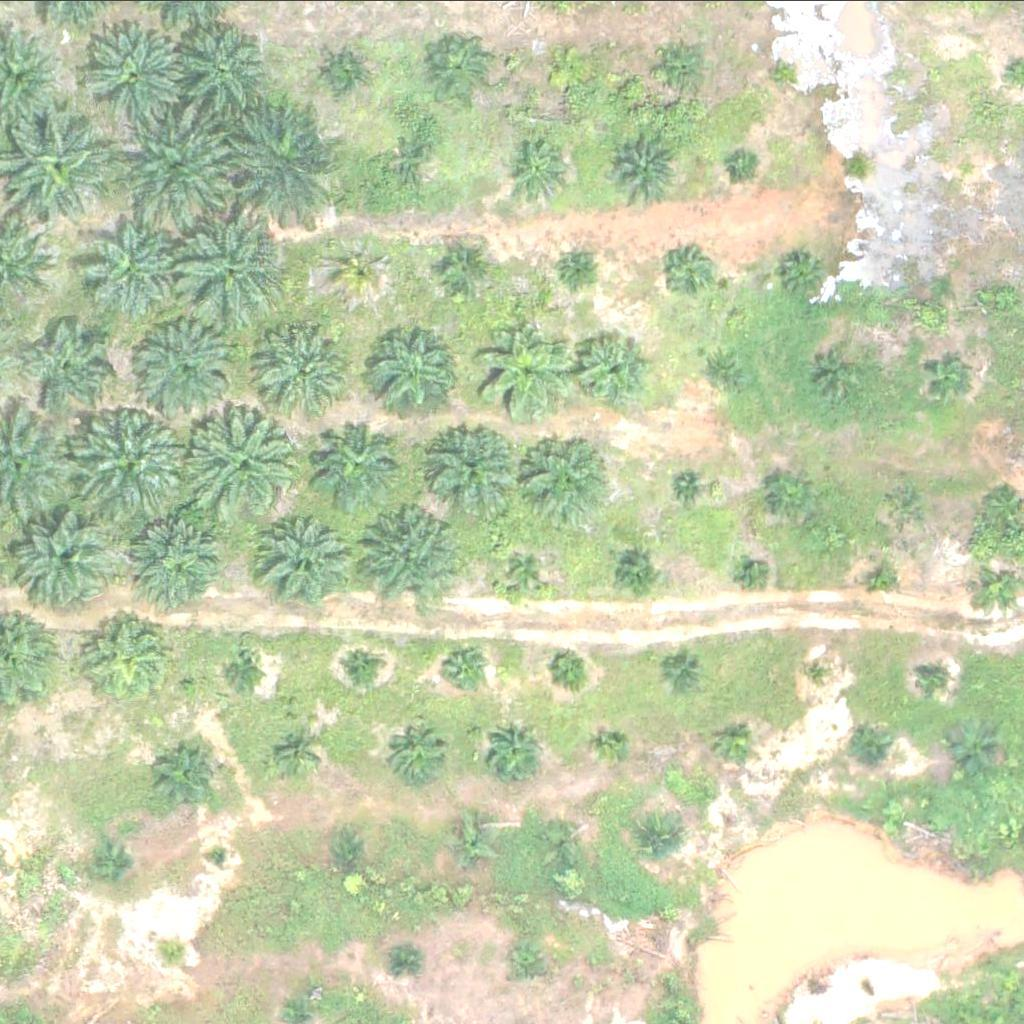Kelapa_Sawit: (110, 104, 236, 229), (221, 96, 347, 221), (68, 403, 193, 528), (187, 403, 312, 528), (179, 208, 292, 321), (71, 17, 185, 129), (80, 217, 181, 317), (26, 313, 127, 413), (135, 318, 236, 418), (13, 504, 114, 604), (132, 507, 233, 607), (260, 510, 361, 610), (78, 605, 179, 705), (470, 320, 571, 420), (362, 502, 463, 602), (264, 319, 353, 407), (571, 325, 659, 413), (182, 23, 270, 111), (520, 434, 608, 522), (428, 422, 516, 510), (315, 415, 403, 503), (360, 326, 448, 413), (607, 132, 683, 207), (159, 747, 222, 810), (430, 37, 493, 99), (509, 137, 572, 199), (486, 721, 549, 783), (379, 133, 442, 195), (389, 730, 440, 780), (321, 52, 372, 102), (540, 43, 591, 93), (713, 717, 764, 767), (446, 814, 497, 864), (438, 242, 488, 292), (661, 37, 711, 87), (667, 248, 717, 298), (781, 245, 831, 295), (920, 348, 970, 398), (813, 348, 863, 398), (699, 341, 749, 391), (769, 468, 819, 518), (609, 549, 659, 599), (953, 721, 1003, 771), (338, 241, 388, 291), (500, 546, 550, 596), (436, 641, 486, 691), (854, 729, 892, 767), (331, 836, 369, 874), (156, 933, 194, 971), (225, 642, 263, 680), (891, 485, 928, 523), (598, 726, 635, 764), (342, 649, 380, 686), (275, 731, 313, 768), (386, 936, 423, 974), (544, 819, 581, 857), (546, 647, 584, 684), (95, 850, 133, 887), (670, 651, 707, 688), (642, 819, 679, 856), (512, 942, 549, 979), (730, 153, 756, 178), (768, 60, 793, 85), (740, 562, 765, 587), (870, 569, 895, 594), (809, 657, 834, 682), (921, 663, 946, 688), (566, 252, 591, 277), (205, 843, 230, 868), (957, 154, 982, 179), (676, 475, 701, 499)
